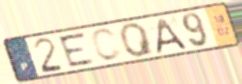2: (33, 36, 65, 75)
9: (181, 10, 211, 49)
A: (155, 16, 189, 55)
C: (90, 27, 125, 63)
E: (56, 31, 97, 70)
Q: (118, 21, 158, 59)
